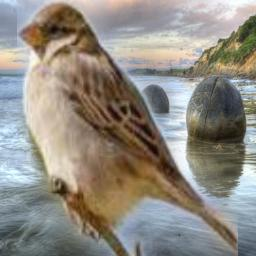Sparrow: (17, 0, 238, 256)
